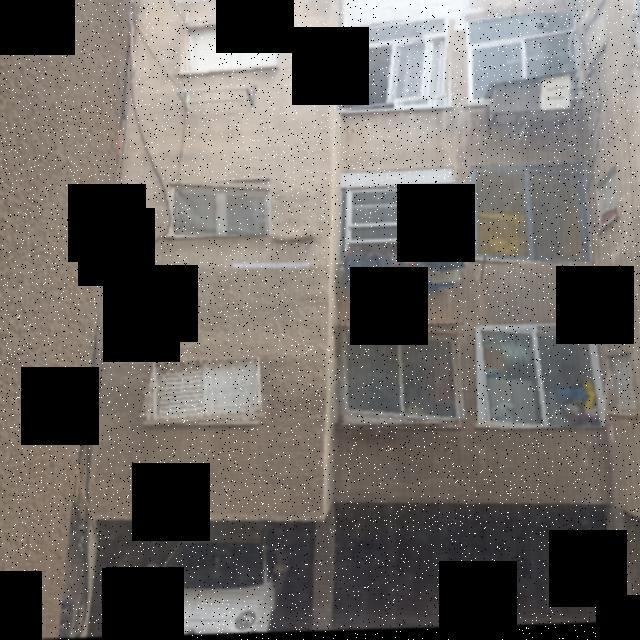Window: (329, 322, 466, 426), (478, 326, 606, 434), (472, 166, 594, 268), (331, 21, 456, 114), (464, 16, 587, 109), (144, 359, 269, 428), (155, 175, 275, 240), (180, 19, 278, 80), (581, 0, 619, 74), (606, 340, 636, 427), (599, 161, 630, 244)
